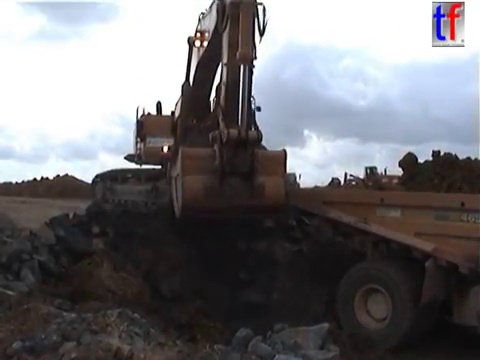excavator: (87, 1, 304, 223)
truck: (287, 183, 480, 354)
wheel loader: (323, 163, 408, 200)
